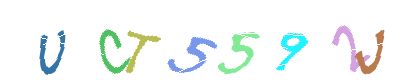2: (252, 0, 332, 80)
5: (163, 0, 243, 80), (180, 0, 260, 80)
9: (225, 0, 305, 80)
C: (71, 0, 151, 80)
J: (267, 0, 347, 80)
T: (143, 0, 223, 80)
U: (11, 0, 91, 80)
